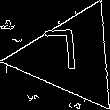L_S: (52, 31, 89, 83)
